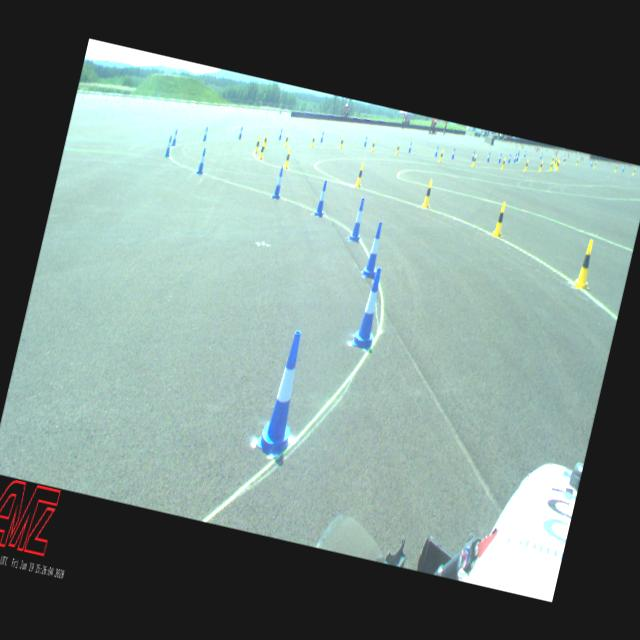blue_cone: (253, 326, 315, 461), (350, 266, 390, 352), (361, 222, 386, 280), (348, 196, 368, 242), (314, 179, 331, 219), (272, 166, 286, 200), (196, 147, 208, 176), (164, 134, 174, 158), (170, 128, 178, 146), (202, 125, 209, 142), (450, 146, 456, 160), (278, 127, 284, 141), (237, 125, 243, 139), (433, 144, 439, 157), (363, 135, 368, 147), (319, 131, 324, 143), (407, 141, 412, 152), (497, 152, 502, 162), (512, 152, 516, 162), (486, 151, 490, 161), (471, 150, 475, 160), (507, 153, 511, 162), (516, 151, 520, 160), (538, 151, 542, 158), (620, 164, 624, 171), (522, 150, 526, 156), (562, 155, 565, 162), (590, 160, 593, 166)
yellow_cone: (573, 237, 597, 290), (491, 201, 508, 238), (420, 178, 435, 210), (354, 162, 365, 188), (282, 146, 292, 170), (257, 141, 266, 161), (254, 136, 262, 154), (282, 132, 290, 148), (261, 134, 268, 150), (369, 138, 376, 153), (394, 142, 401, 156), (338, 135, 344, 149), (522, 158, 528, 172), (310, 134, 316, 147), (438, 148, 444, 161), (538, 160, 544, 172), (471, 152, 476, 166), (500, 157, 505, 170), (550, 160, 554, 170), (554, 157, 558, 167), (556, 160, 560, 170), (614, 164, 618, 172), (592, 161, 596, 168), (632, 168, 636, 175), (574, 158, 578, 165), (551, 155, 554, 164), (555, 160, 558, 168), (563, 157, 566, 164), (554, 158, 556, 167)
